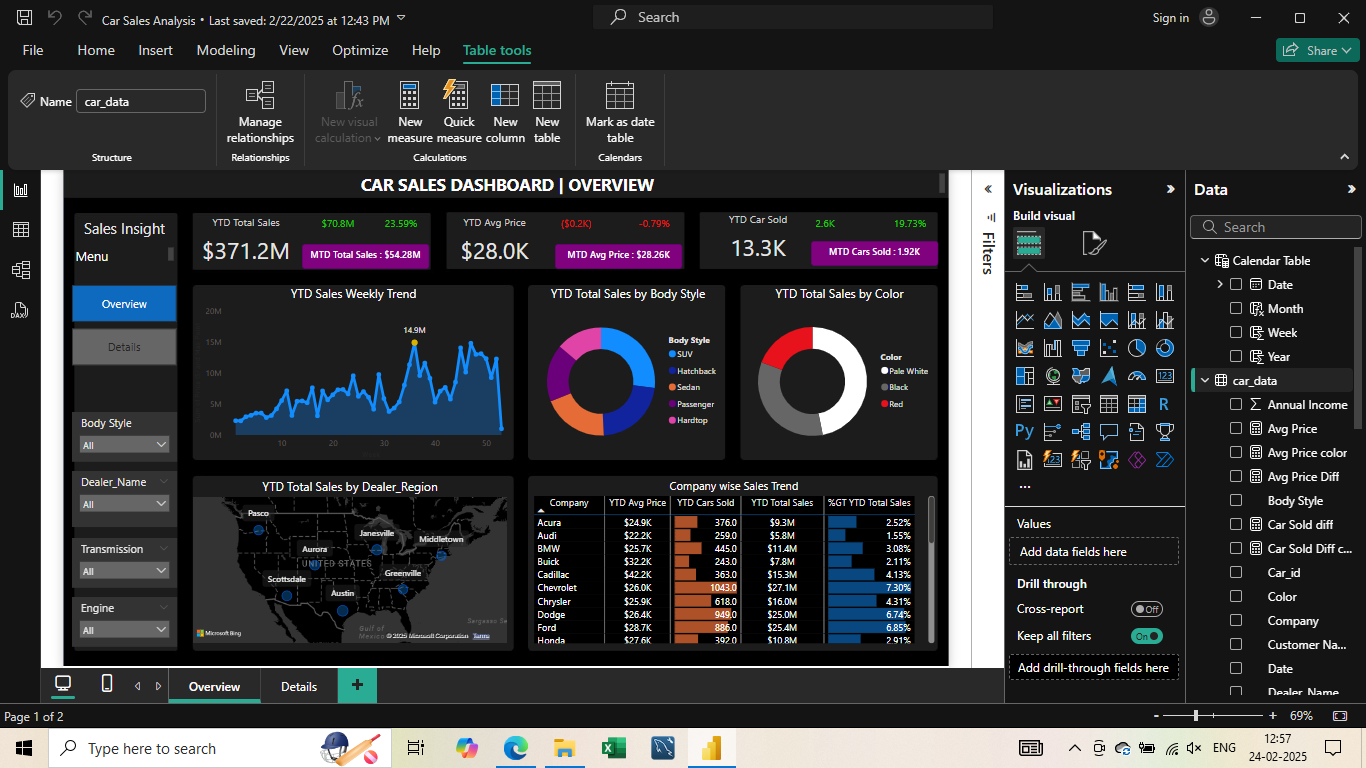

Layout of this report page (visuals, bound fields, positions):
{"tool":"powerbi","page":{"name":"Overview","canvas":[1280,720],"ordinal":0},"visuals":[{"type":"card","title":"YTD Total Sales","fields":{"Values":["car_data.YTPD Total Sales"]},"box":[183.6,65.1,161.9,82.4],"z":0},{"type":"card","title":"Sales Difference","fields":{"Values":["car_data.Sales Difference"]},"box":[357.1,65.1,81,28.9],"z":1000},{"type":"card","title":"Sales Difference","fields":{"Values":["car_data.YoY Sales Growth"]},"box":[448.2,65.1,81,28.9],"z":2000},{"type":"card","fields":{"Values":["car_data.MTP KPI"]},"box":[345.5,107,183.6,36.1],"z":2001},{"type":"card","title":"YTD Avg Price","fields":{"Values":["car_data.YTD Avg Price"]},"box":[536.4,65.1,174.9,82.4],"z":2002},{"type":"card","title":"Sales Difference","fields":{"Values":["car_data.Avg Price Diff"]},"box":[701.2,65.1,81,28.9],"z":2003},{"type":"card","title":"Sales Difference","fields":{"Values":["car_data.YoY Avg Price"]},"box":[814,65.1,81,28.9],"z":2004},{"type":"card","fields":{"Values":["car_data.MTD Avg Price KPI"]},"box":[711.3,107,183.6,36.1],"z":2005},{"type":"card","title":"YTD Car Sold","fields":{"Values":["car_data.YTD Cars Sold"]},"box":[923.9,60.7,161.9,82.4],"z":2006},{"type":"card","title":"Sales Difference","fields":{"Values":["car_data.Car Sold diff"]},"box":[1061.2,65.1,81,28.9],"z":2007},{"type":"card","title":"Sales Difference","fields":{"Values":["car_data.YoY Car Sold Growth"]},"box":[1184.1,65.1,81,28.9],"z":2008},{"type":"card","fields":{"Values":["car_data.MTD Cars Sold KPI"]},"box":[1081.4,102.7,183.6,36.1],"z":2009},{"type":"areaChart","title":"YTD Sales Weekly Trend","fields":{"Category":["Calendar Table.Week"],"Y":["car_data.Price ($)","car_data.Max Point"]},"box":[183.6,166.3,472.8,255.9],"z":2010},{"type":"donutChart","fields":{"Category":["car_data.Body Style"],"Y":["car_data.YTD Total Sales"]},"box":[675.2,166.3,283.4,255.9],"z":2011},{"type":"donutChart","fields":{"Category":["car_data.Color"],"Y":["car_data.YTD Total Sales"]},"box":[980.2,166.3,284.8,255.9],"z":2012},{"type":"tableEx","title":"Company wise Sales Trend","fields":{"Values":["car_data.Company","car_data.YTD Avg Price","car_data.YTD Cars Sold","car_data.YTD Total Sales","Divide(car_data.YTD Total Sales, ScopedEval(car_data.YTD Total Sales, []))"]},"box":[675.2,445.3,589.9,244.3],"z":2014},{"type":"textbox","box":[13,0,1266.5,40.5],"z":2015},{"type":"map","fields":{"Category":["car_data.Dealer_Region"],"Size":["car_data.YTD Total Sales"]},"box":[183.6,445.3,462.7,244.3],"z":2016},{"type":"slicer","fields":{"Values":["car_data.Body Style"]},"box":[13,349.9,151.8,72.3],"z":2017},{"type":"slicer","fields":{"Values":["car_data.Dealer_Name"]},"box":[13,435.2,151.8,81],"z":2018},{"type":"slicer","fields":{"Values":["car_data.Transmission"]},"box":[13,532,151.8,72.3],"z":2019},{"type":"slicer","fields":{"Values":["car_data.Engine"]},"box":[13,617.3,151.8,72.3],"z":2020},{"type":"textbox","box":[13,65.1,151.8,56.4],"z":2021},{"type":"textbox","box":[13,107,151.8,31.8],"z":2022},{"type":"pageNavigator","box":[13,166.3,151.8,117.1],"z":2023}]}

Visuals, with their boxes on the page's 1280x720 design canvas (x1, y1, x2, y2). These are canvas units, not pixel positions in the 1366x768 screenshot, which may show the page scaled, cropped or inside an application window:
"YTD Total Sales" card: bbox(184, 65, 346, 148)
"Sales Difference" card: bbox(357, 65, 438, 94)
"Sales Difference" card: bbox(448, 65, 529, 94)
card - car_data.MTP KPI: bbox(346, 107, 529, 143)
"YTD Avg Price" card: bbox(536, 65, 711, 148)
"Sales Difference" card: bbox(701, 65, 782, 94)
"Sales Difference" card: bbox(814, 65, 895, 94)
card - car_data.MTD Avg Price KPI: bbox(711, 107, 895, 143)
"YTD Car Sold" card: bbox(924, 61, 1086, 143)
"Sales Difference" card: bbox(1061, 65, 1142, 94)
"Sales Difference" card: bbox(1184, 65, 1265, 94)
card - car_data.MTD Cars Sold KPI: bbox(1081, 103, 1265, 139)
"YTD Sales Weekly Trend" areaChart: bbox(184, 166, 656, 422)
donutChart - car_data.Body Style x car_data.YTD Total Sales: bbox(675, 166, 959, 422)
donutChart - car_data.Color x car_data.YTD Total Sales: bbox(980, 166, 1265, 422)
"Company wise Sales Trend" tableEx: bbox(675, 445, 1265, 690)
textbox: bbox(13, 0, 1280, 40)
map - car_data.Dealer_Region x car_data.YTD Total Sales: bbox(184, 445, 646, 690)
slicer - car_data.Body Style: bbox(13, 350, 165, 422)
slicer - car_data.Dealer_Name: bbox(13, 435, 165, 516)
slicer - car_data.Transmission: bbox(13, 532, 165, 604)
slicer - car_data.Engine: bbox(13, 617, 165, 690)
textbox: bbox(13, 65, 165, 122)
textbox: bbox(13, 107, 165, 139)
pageNavigator: bbox(13, 166, 165, 283)
